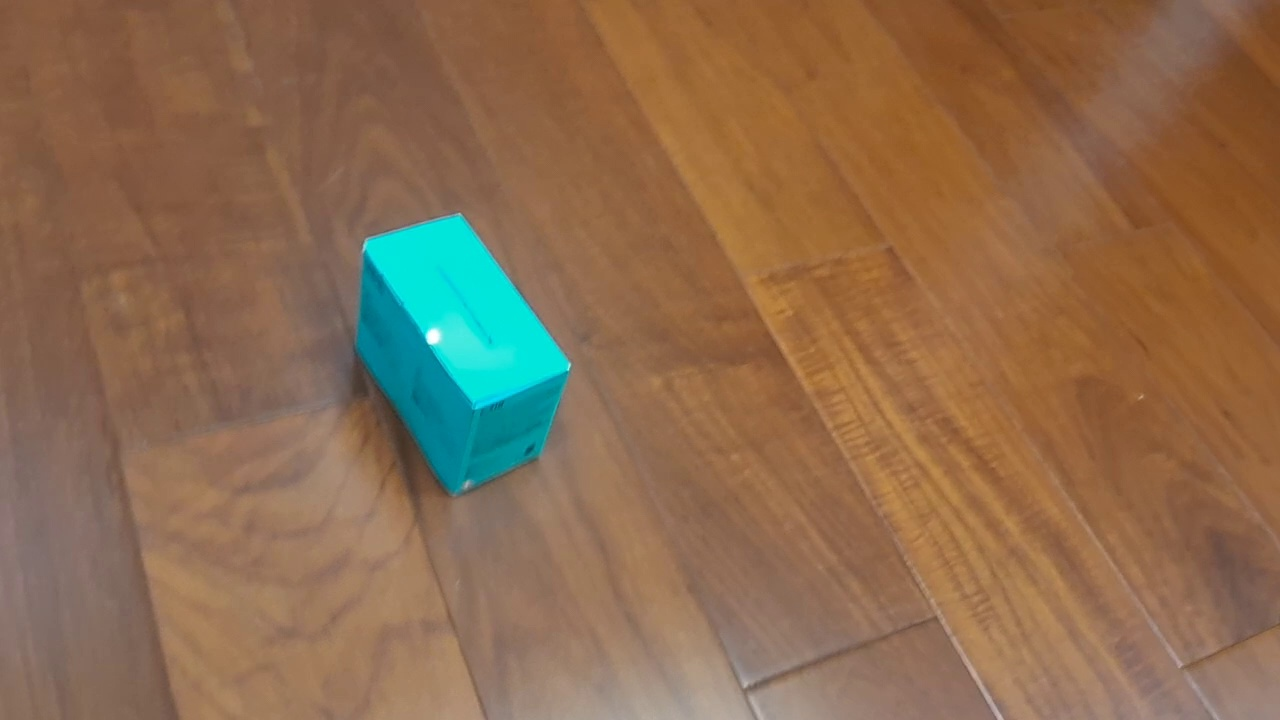webcam: (352, 212, 572, 498)
